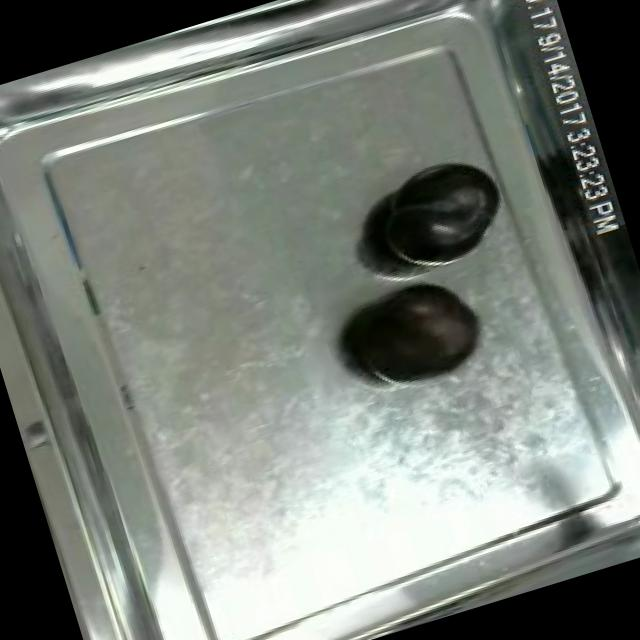Fruit: (328, 262, 496, 402), (357, 146, 516, 281)
